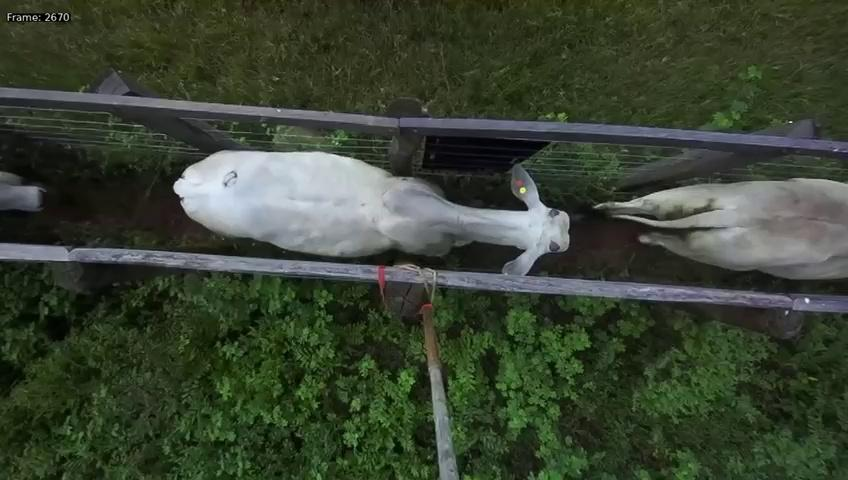cattle: (168, 127, 572, 274)
